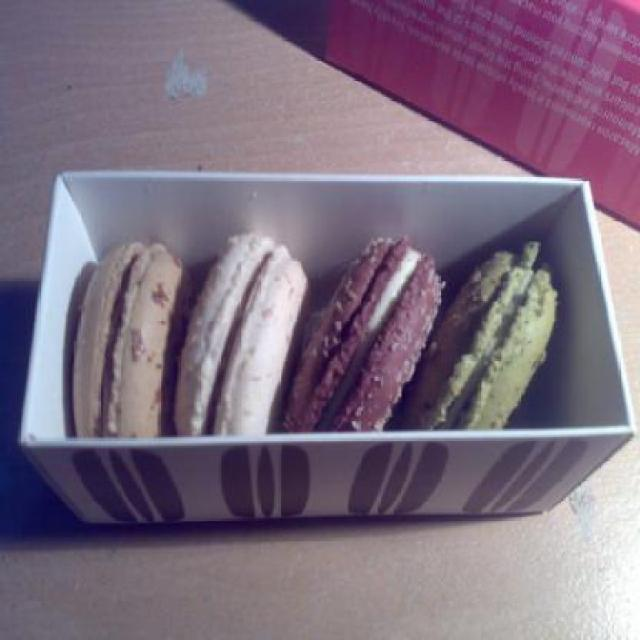Macaron: (63, 224, 580, 463)
